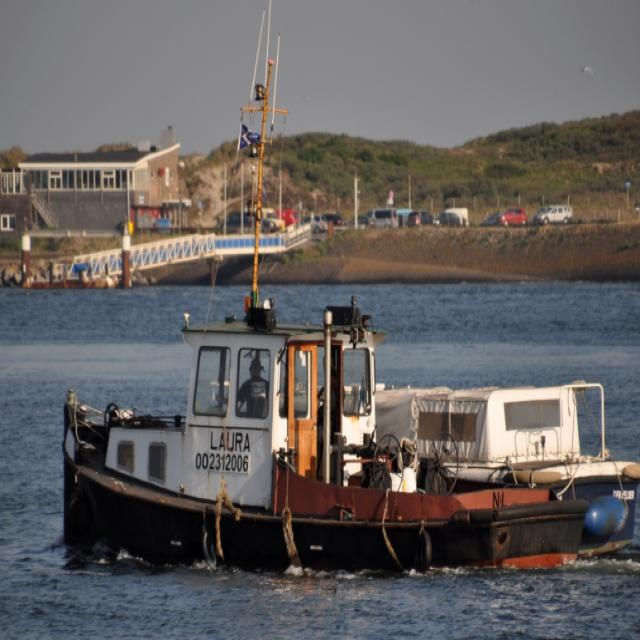tugboat: (54, 292, 640, 584)
